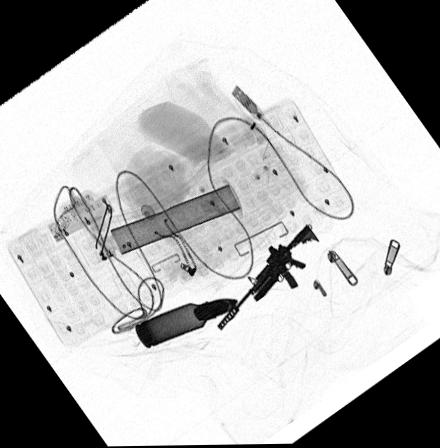Bullet: (137, 299, 238, 349)
Gun: (217, 224, 319, 331)
